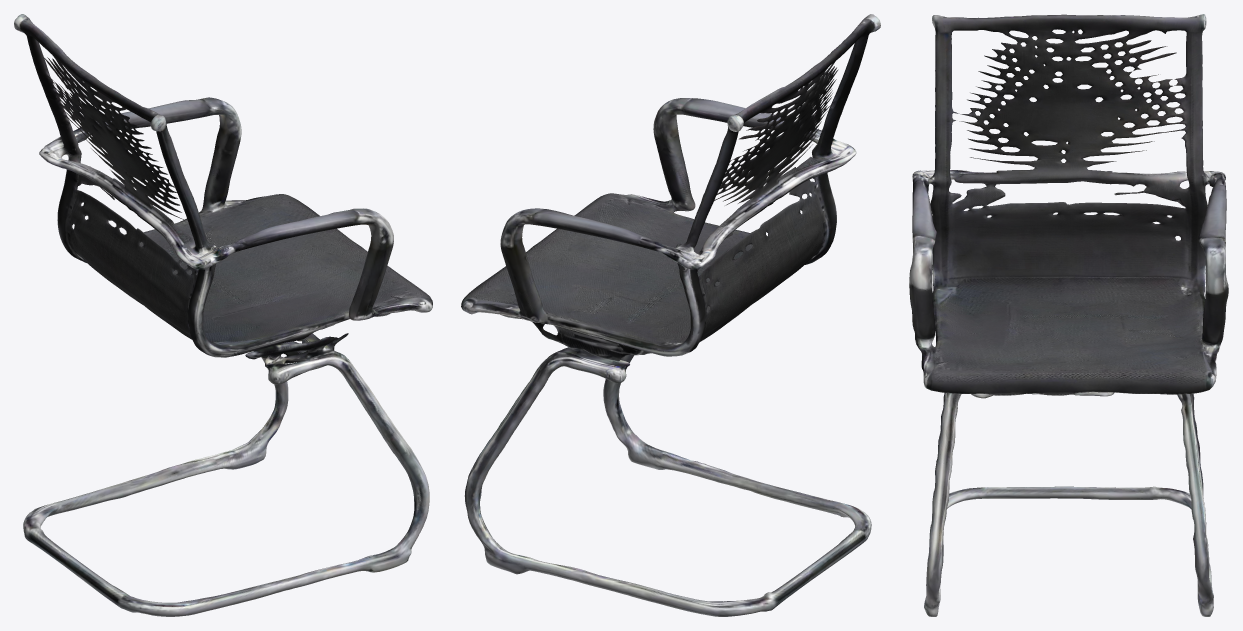
The model's file is chair.glb.
3 views of the same model, side by side, from view 1: azimuth 30°, elevation 25°; view 2: azimuth 150°, elevation 25°; view 3: azimuth 270°, elevation 25° (orthographic). The views are drawn at different scales.
Visible parts, largest first — view 1: tripo_node_286c52cb-1ad1-46f0-a987-4d93f1e5ffe5; view 2: tripo_node_286c52cb-1ad1-46f0-a987-4d93f1e5ffe5; view 3: tripo_node_286c52cb-1ad1-46f0-a987-4d93f1e5ffe5.
Part boxes in pixels (bbox=[...]): tripo_node_286c52cb-1ad1-46f0-a987-4d93f1e5ffe5: bbox=[14, 14, 432, 616]; tripo_node_286c52cb-1ad1-46f0-a987-4d93f1e5ffe5: bbox=[461, 14, 880, 616]; tripo_node_286c52cb-1ad1-46f0-a987-4d93f1e5ffe5: bbox=[909, 14, 1228, 616].
Size of the model in its own units: 0.4942 by 0.8218 by 0.4833.
1 material, 1 textured.
